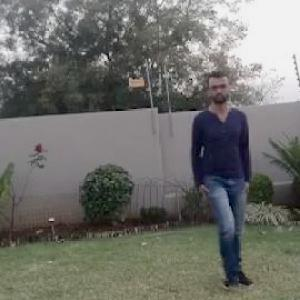follow: (166, 61, 246, 296)
